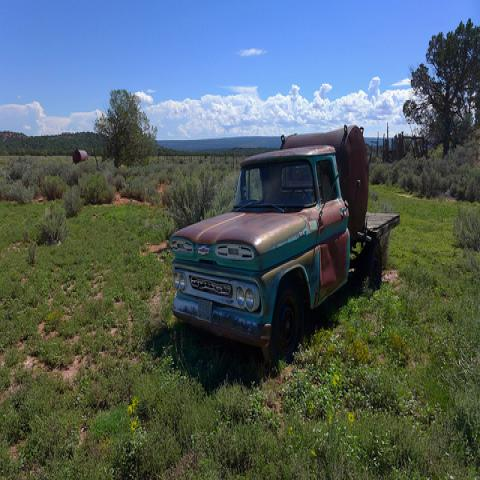truck: (170, 123, 400, 369)
